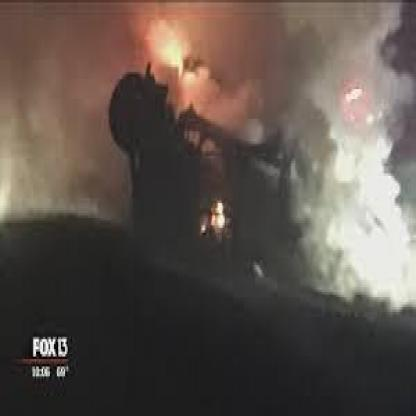fire: (139, 16, 231, 122), (204, 178, 228, 236)
smoke: (312, 128, 411, 311), (0, 49, 114, 206)
